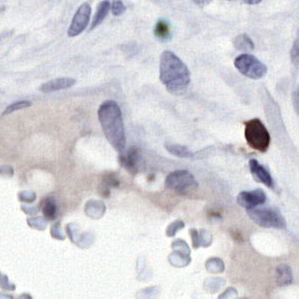Lymphocyte: (243, 117, 271, 153)
